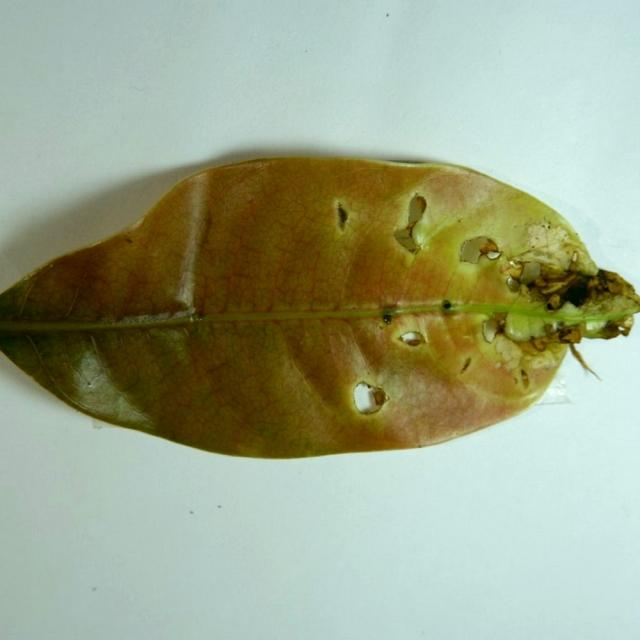Anthracnose: (391, 193, 432, 259), (352, 380, 390, 414), (459, 235, 501, 265), (561, 281, 590, 308), (482, 317, 503, 345), (399, 331, 425, 347), (380, 305, 398, 325), (336, 204, 348, 230), (506, 276, 520, 292), (520, 368, 529, 390), (461, 357, 471, 374)
Mango: (0, 154, 639, 463)
